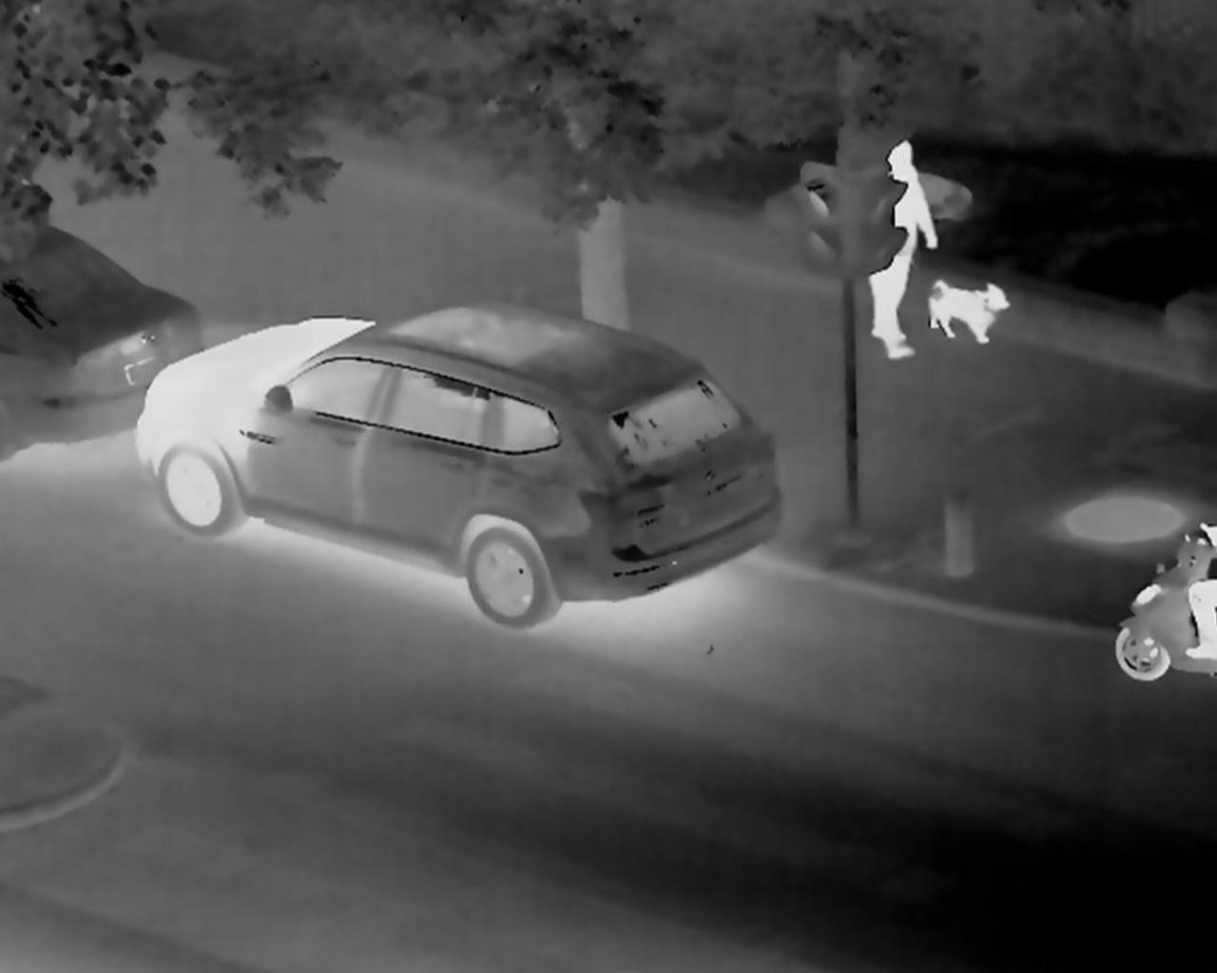person: (882, 138, 927, 348)
